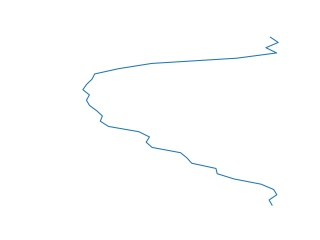mouthBar: (80, 35, 285, 209)
